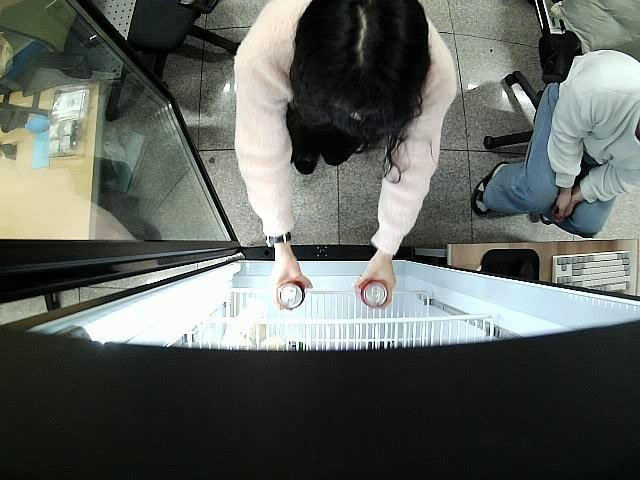11_cocaColaZero: (355, 278, 387, 308), (277, 280, 305, 310)
